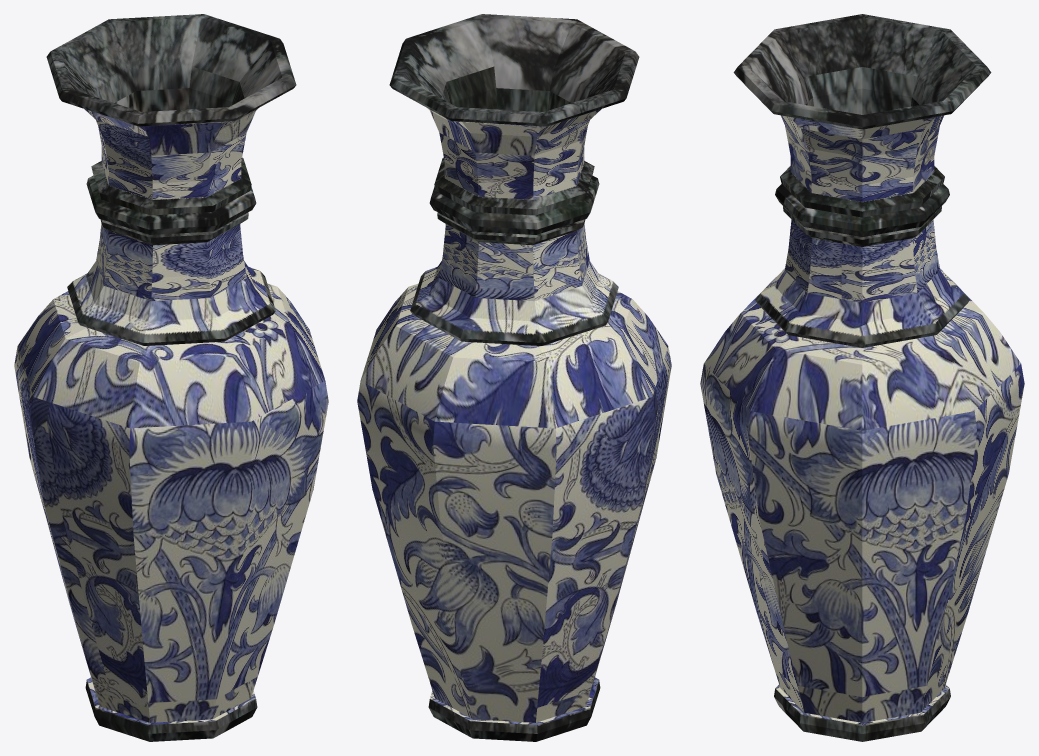
The model's file is vasi.glb.
3 renders of one model, left to right at view 1: azimuth 30°, elevation 25°; view 2: azimuth 150°, elevation 25°; view 3: azimuth 270°, elevation 25°, orthographic.
Parts seen in each view (by area): view 1: Object_3; view 2: Object_3; view 3: Object_3.
Part boxes in pixels (x1,y1,x2,y2): Object_3: (14,14,328,741); Object_3: (357,14,671,741); Object_3: (700,14,1024,741).
Size of the model in its own units: 2.89 by 6.29 by 2.89.
1 material, 1 textured.
